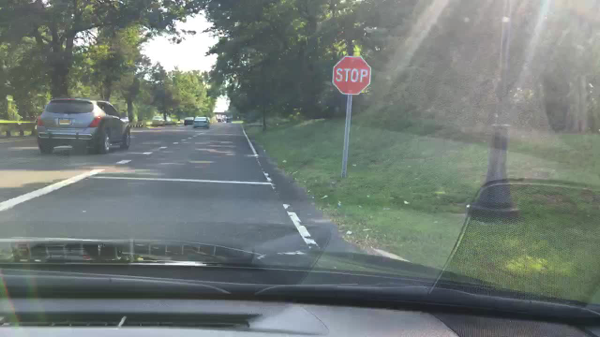car: (34, 96, 132, 156), (192, 115, 211, 129), (152, 115, 166, 126), (182, 116, 193, 125), (225, 117, 231, 125), (217, 118, 223, 123)
traffic sign: (330, 55, 373, 96)
